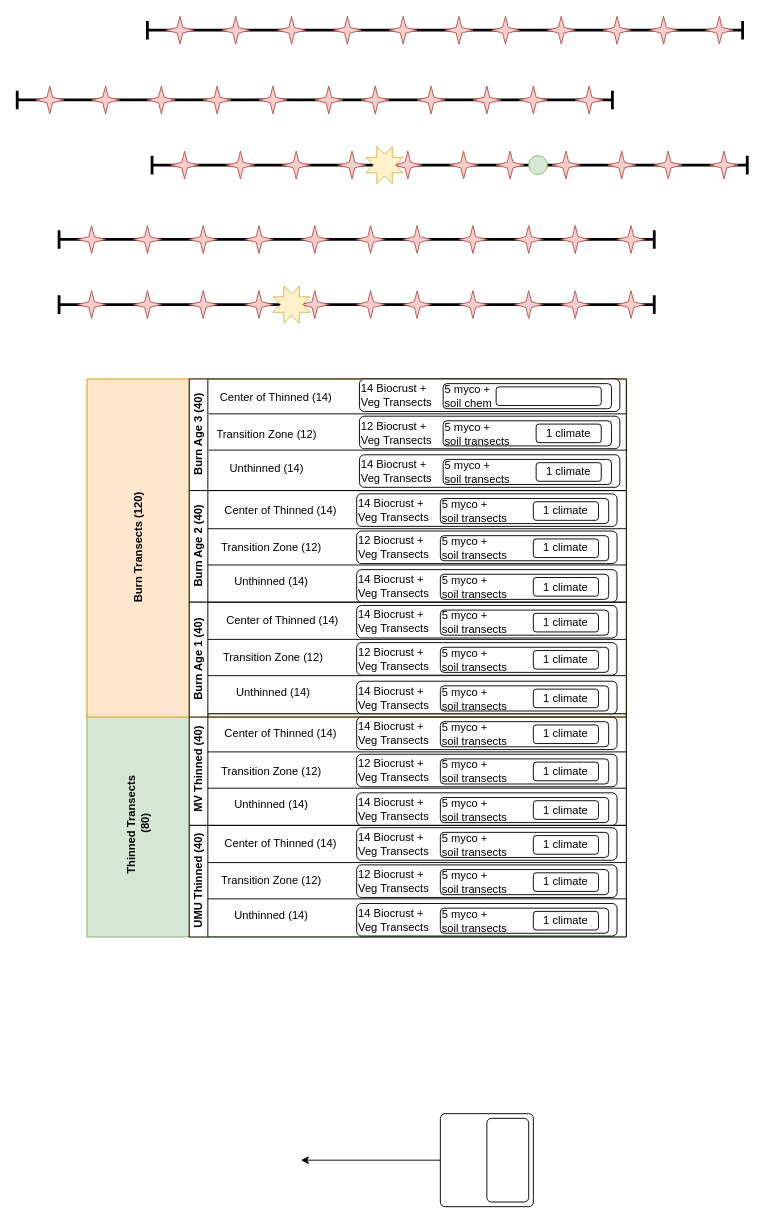
Image size: 764x1223. Some labels were removed from this diagram. The shapes that lost their labels are listed below. From the top down, each one's centre as x and y in pixels, then its label:
At pixel 548 395: "1 climate + DNA".
At pixel 463 1160: "main".
At pixel 507 1159: "sub".
